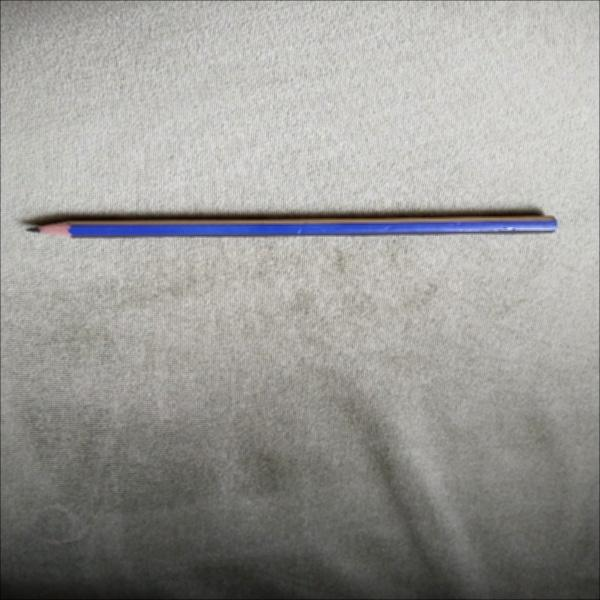pencil: (21, 211, 566, 246)
